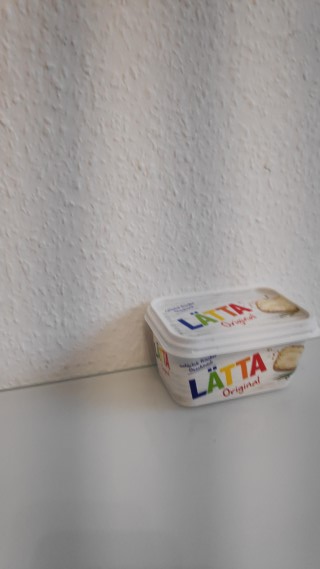laetta: (144, 285, 320, 408)
